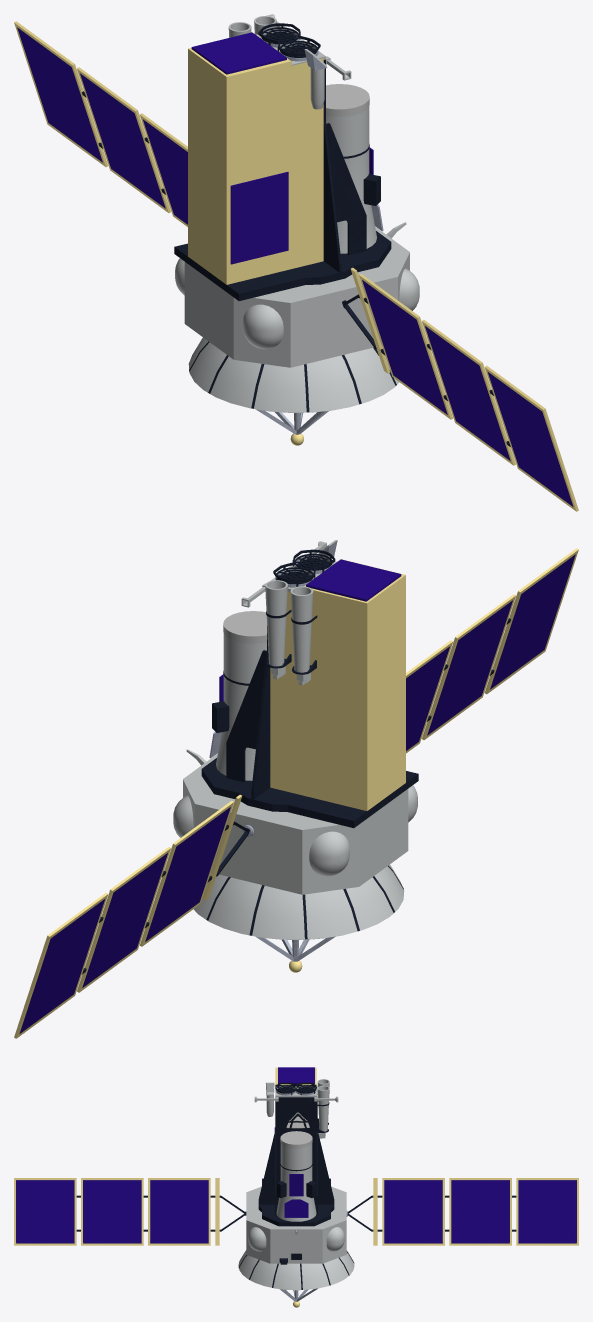
The model's file is space_satellite.glb.
3 views of the same model, one above another, from view 1: azimuth 30°, elevation 25°; view 2: azimuth 150°, elevation 25°; view 3: azimuth 270°, elevation 25° (orthographic). The views are drawn at different scales.
Parts seen in each view (by area): view 1: Object_2, Object_3; view 2: Object_2, Object_3; view 3: Object_2, Object_3.
Boxes of the visible parts, <box> form: Object_2: <box>14,14,578,511</box>; Object_3: <box>174,33,409,367</box>; Object_2: <box>14,540,578,1038</box>; Object_3: <box>183,559,418,894</box>; Object_2: <box>14,1067,578,1307</box>; Object_3: <box>246,1067,346,1263</box>.
Size of the model in its own units: 0.9 by 1.75 by 4.06.
2 materials, 2 textured.
